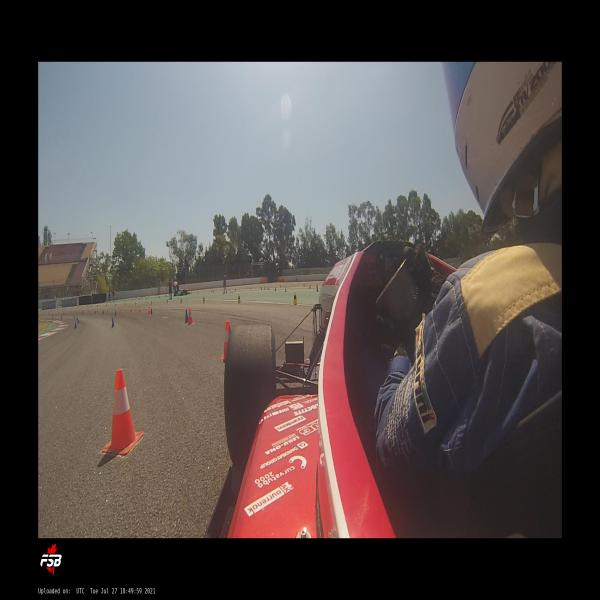orange_cone: (102, 369, 143, 456), (220, 321, 231, 361), (187, 308, 195, 326), (148, 306, 150, 314), (139, 306, 141, 313), (130, 306, 132, 312), (120, 307, 122, 312)
unknown_cone: (184, 309, 189, 322), (112, 318, 114, 327), (150, 307, 152, 315), (75, 322, 77, 329), (115, 310, 117, 316)
yellow_cone: (294, 292, 298, 306), (202, 296, 206, 304), (238, 294, 241, 304), (180, 298, 182, 304)
